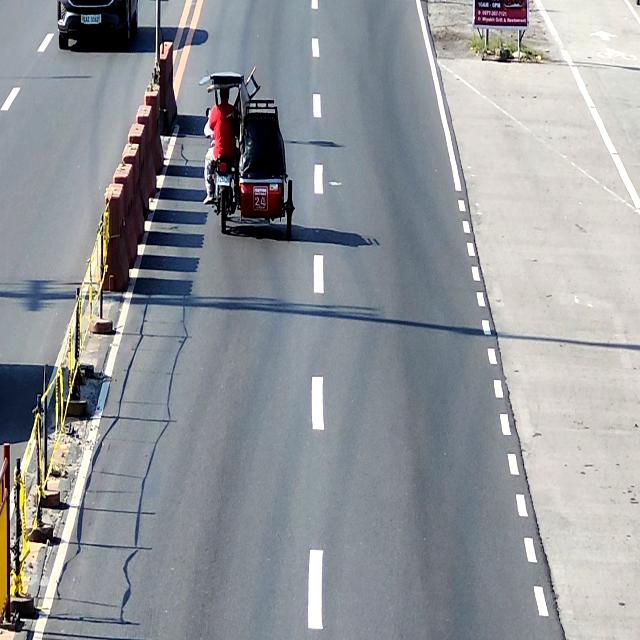Car: (57, 0, 138, 51)
License-Plate: (216, 174, 230, 186), (82, 15, 99, 24)
Tricycle: (206, 71, 295, 238)
